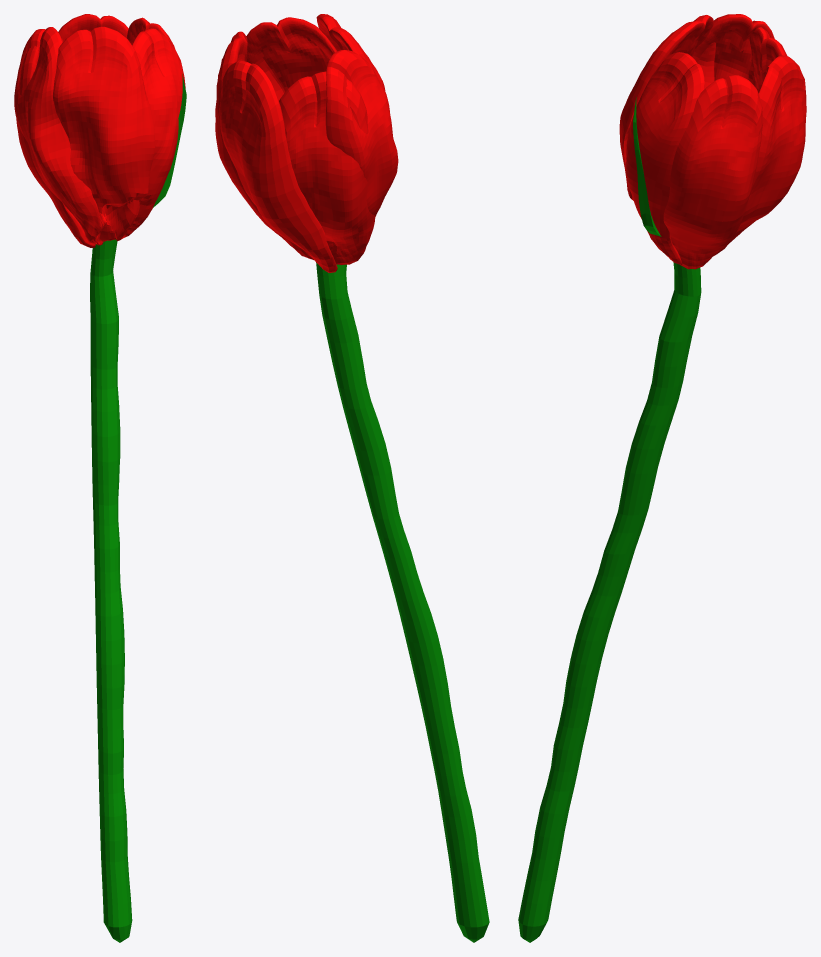
File: Flower_Base.fbx
3 renders of one model, left to right at view 1: azimuth 30°, elevation 25°; view 2: azimuth 150°, elevation 25°; view 3: azimuth 270°, elevation 25°, orthographic. The views are drawn at different scales.
Parts seen in each view (by area): view 1: Flower; view 2: Flower; view 3: Flower.
Part boxes in pixels (box(x1,y1,x2,y2)): Flower: box(14, 14, 186, 942); Flower: box(215, 14, 489, 942); Flower: box(518, 14, 806, 942).
Bounding box in the file's own units: 14.55 × 78.85 × 21.64.
